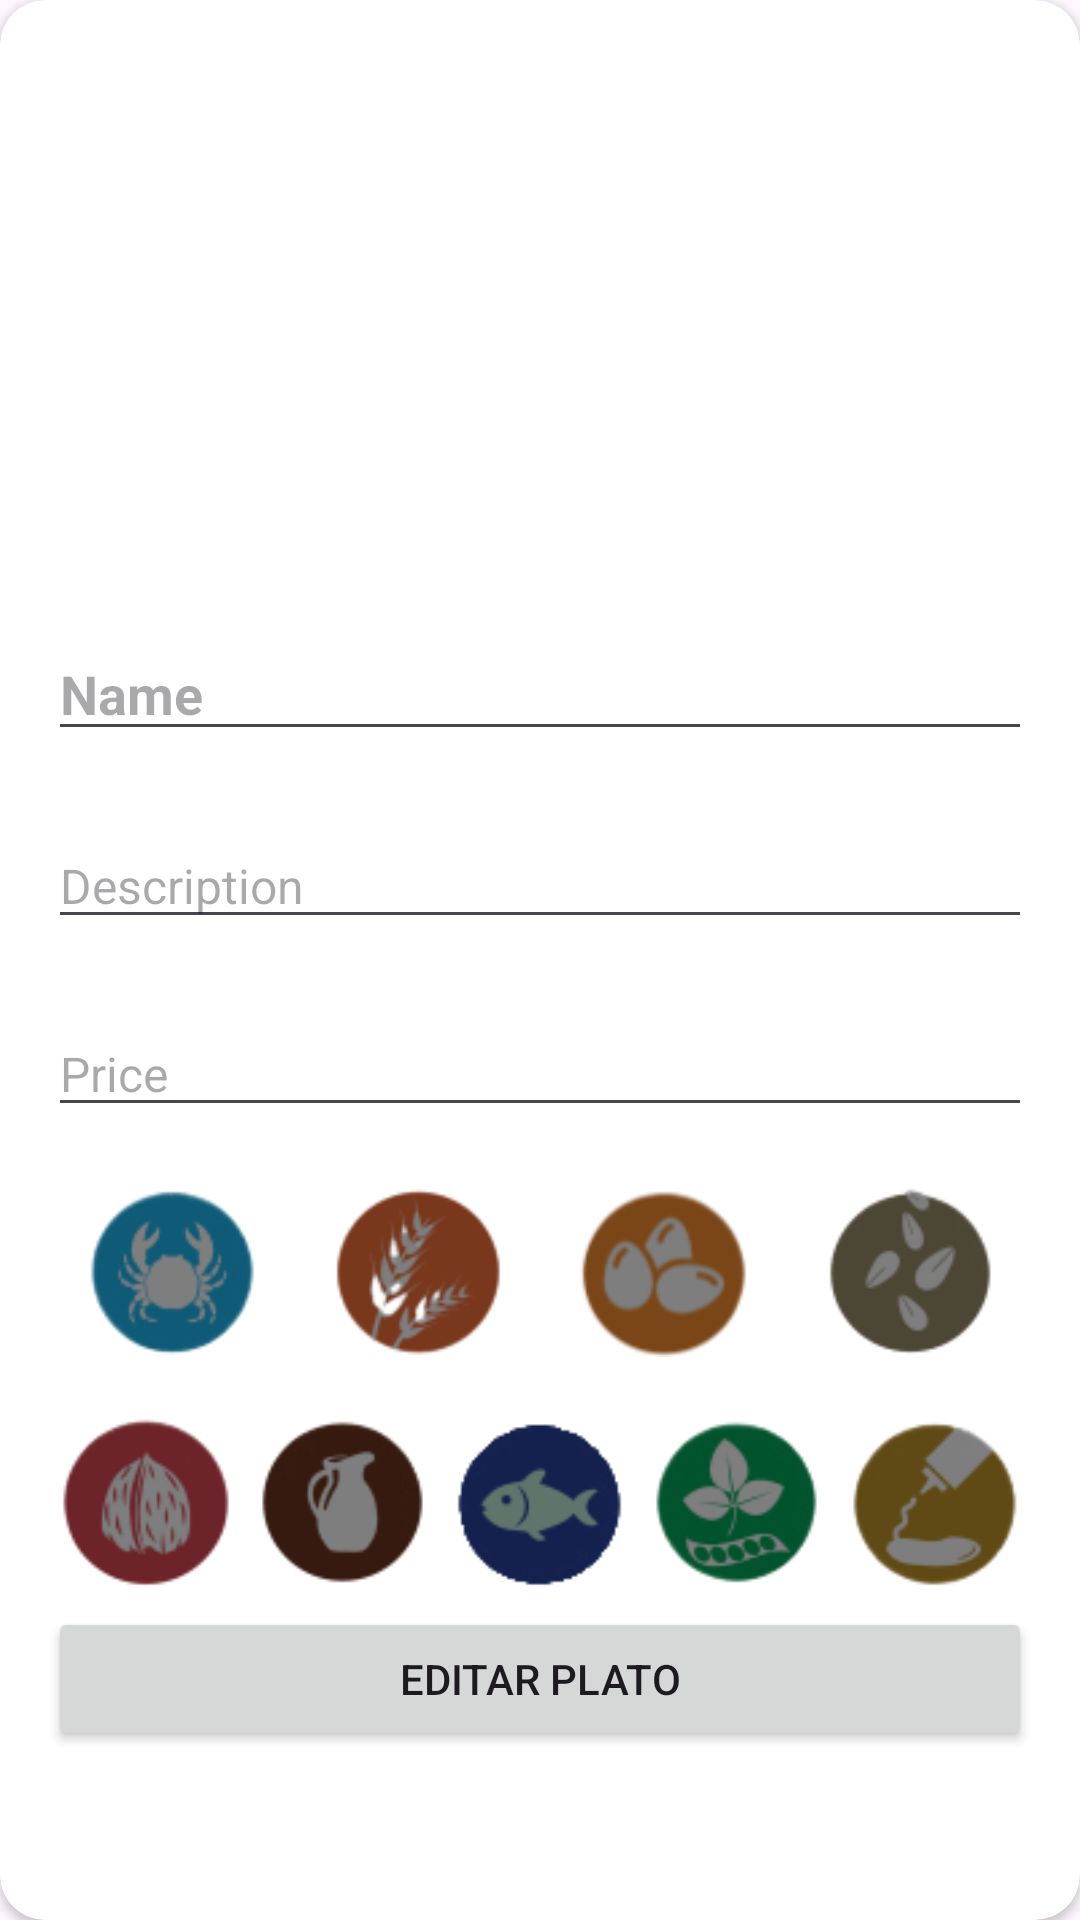

Where icons sit on this 1080 x 1920 app screen, as [x1=x1, y1=y1, x2=x2, y2=y2]:
crustaceo oscuro: [x1=91, y1=1191, x2=254, y2=1353]
dairy oscuro: [x1=262, y1=1422, x2=423, y2=1583]
egg oscuro: [x1=582, y1=1192, x2=746, y2=1357]
fish oscuro: [x1=458, y1=1424, x2=621, y2=1585]
gluten oscuro: [x1=336, y1=1190, x2=500, y2=1355]
mustard oscuro: [x1=853, y1=1424, x2=1017, y2=1585]
nuts oscuro: [x1=63, y1=1420, x2=229, y2=1585]
sesame oscuro: [x1=830, y1=1189, x2=991, y2=1353]
soy oscuro: [x1=656, y1=1422, x2=817, y2=1583]
